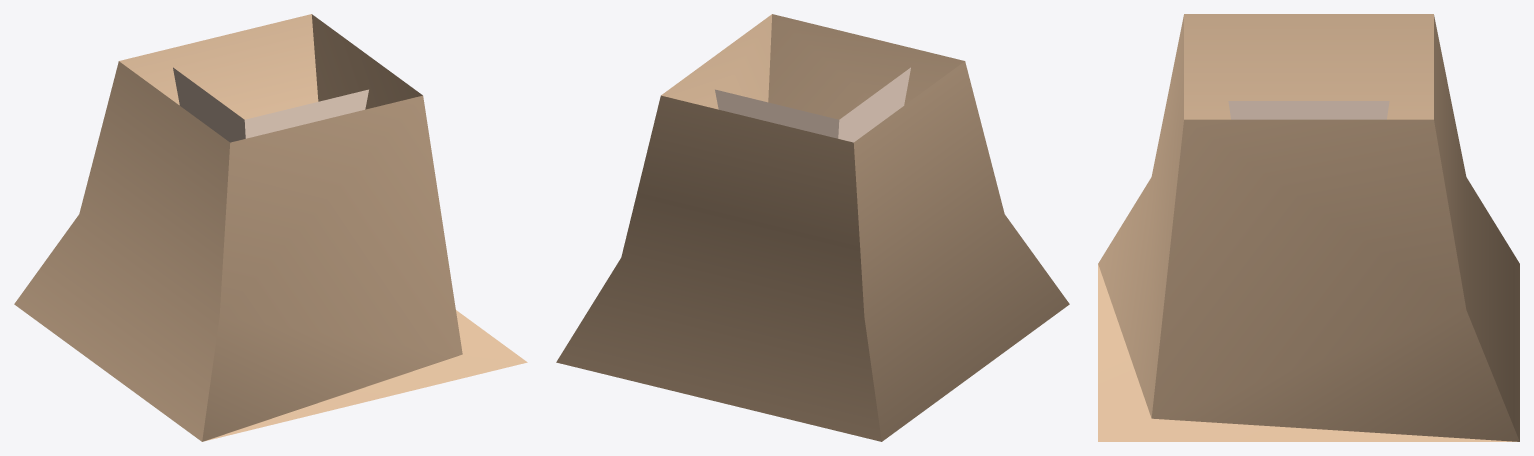
The model's file is treeStump_deep.glb.
The picture shows the model from 3 angles, left to right: view 1: azimuth 30°, elevation 25°; view 2: azimuth 150°, elevation 25°; view 3: azimuth 270°, elevation 25°; orthographic projection. The views are drawn at different scales.
Visible parts, largest first — view 1: treeStump_deep; view 2: treeStump_deep; view 3: treeStump_deep.
Boxes of the visible parts, <box> form: treeStump_deep: <box>14,14,527,441</box>; treeStump_deep: <box>556,14,1069,441</box>; treeStump_deep: <box>1098,14,1519,441</box>.
Size of the model in its own units: 2.81 by 2.11 by 2.81.
